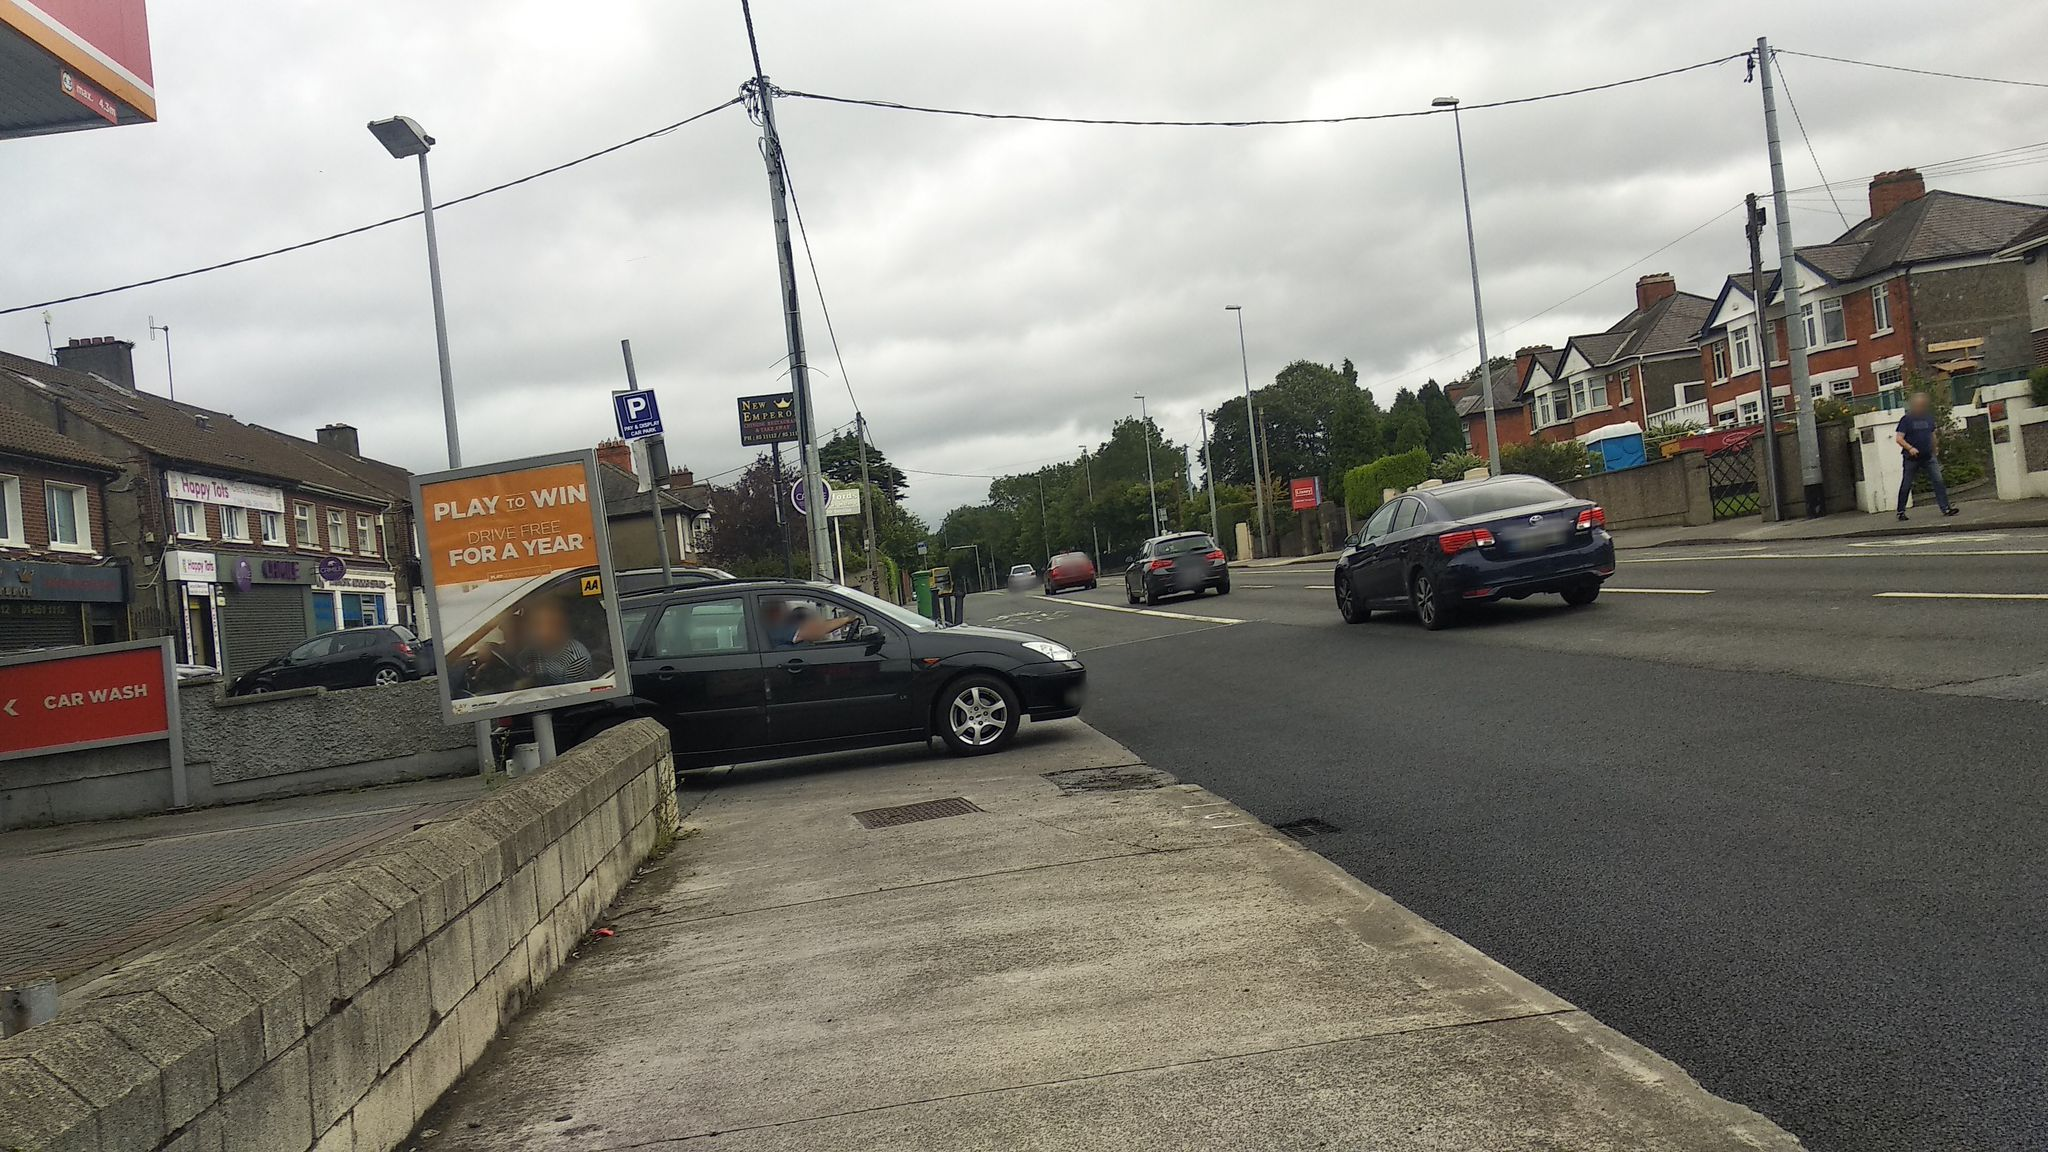property sign: (1279, 463, 1336, 513)
